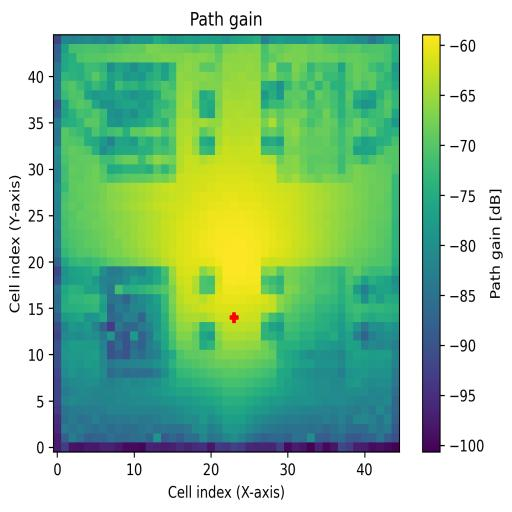Concrete: (276, 63, 346, 183)
Glass: (106, 63, 176, 182)
Metal: (277, 267, 347, 389)
Wood: (100, 266, 169, 379)
